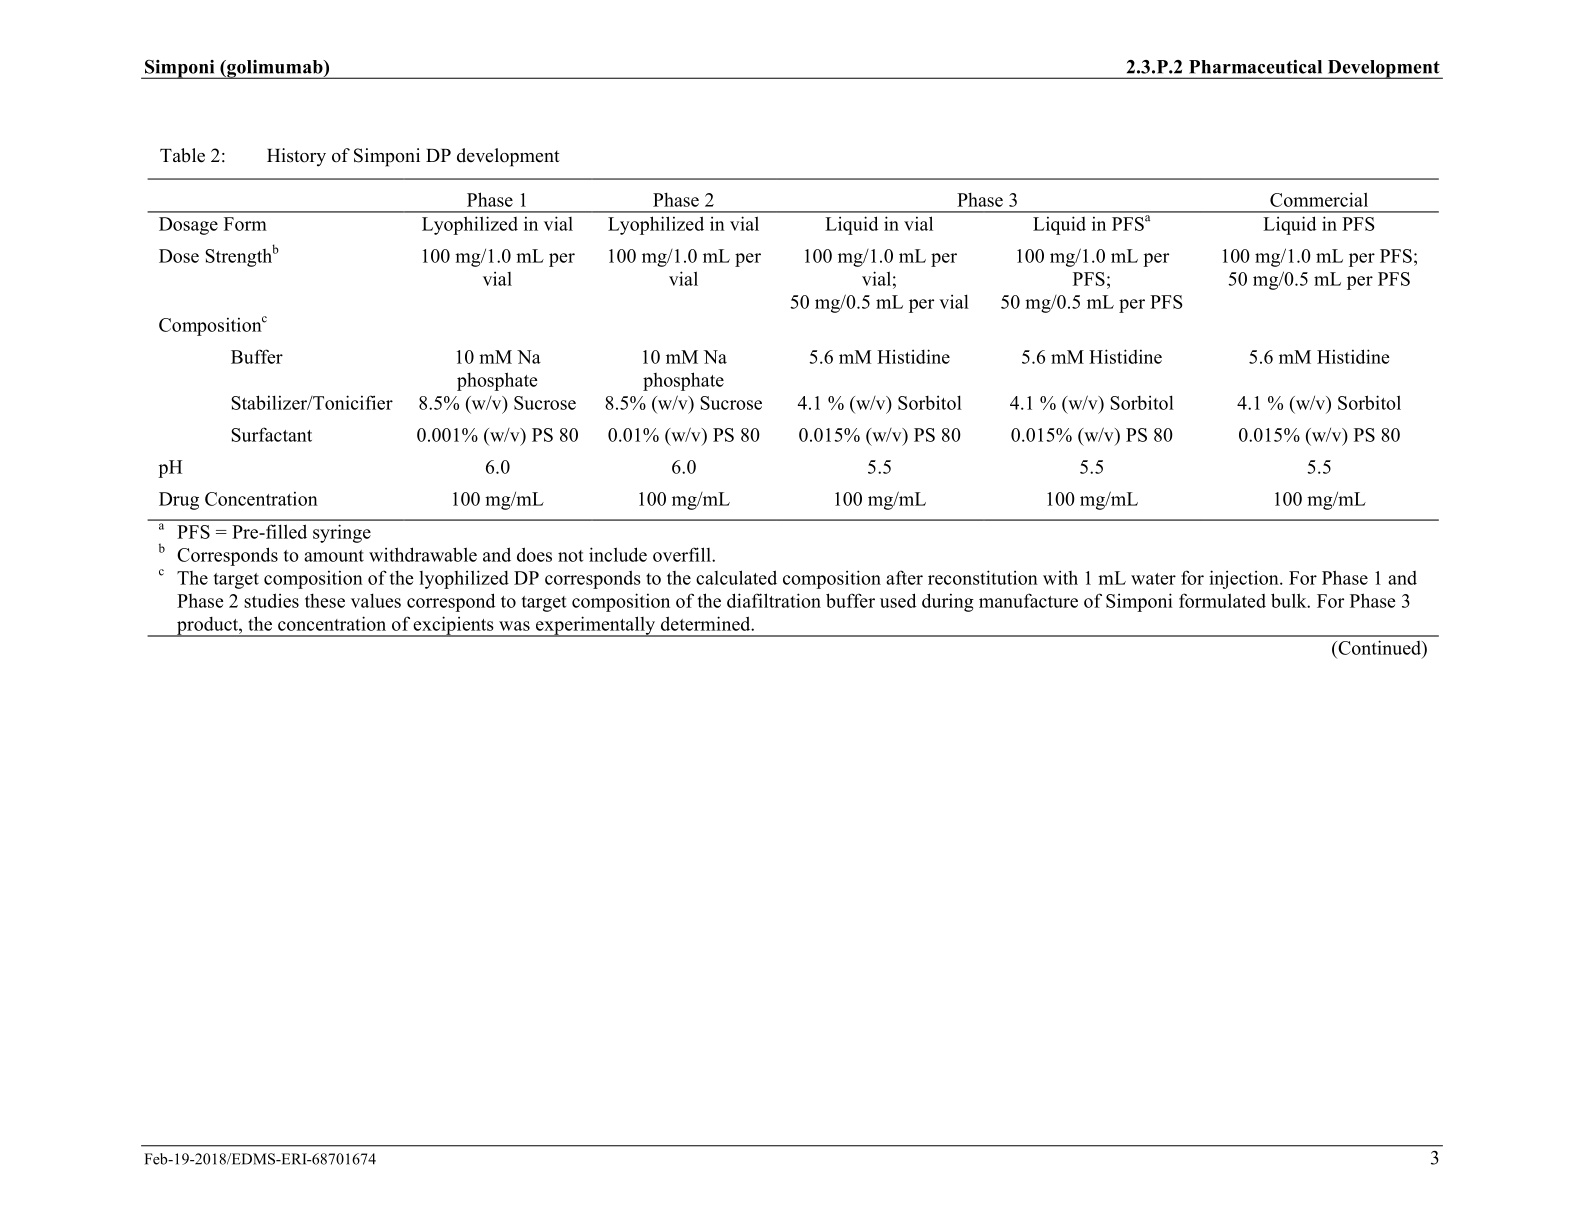partial_lined: (148, 177, 1440, 521)
